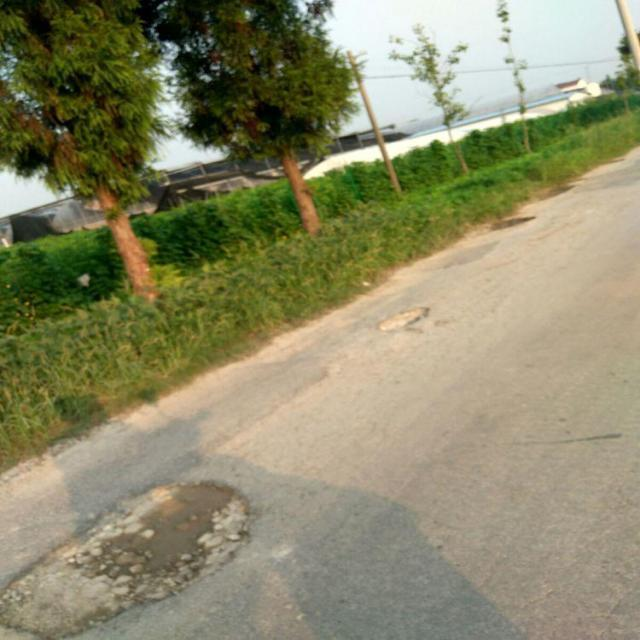pothole: (0, 480, 255, 640), (377, 306, 430, 334)
